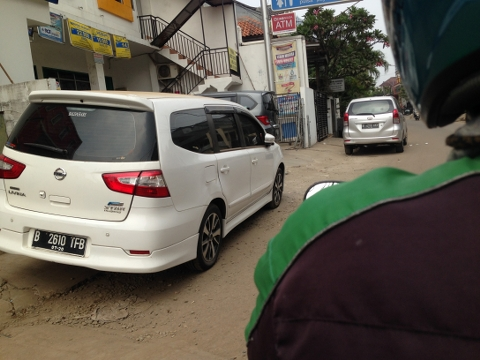mobil: (1, 90, 284, 274), (342, 95, 408, 155)
